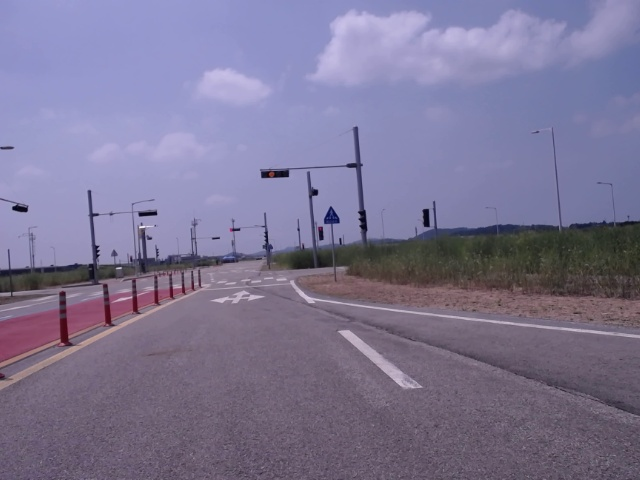orange_4: (259, 168, 290, 179)
